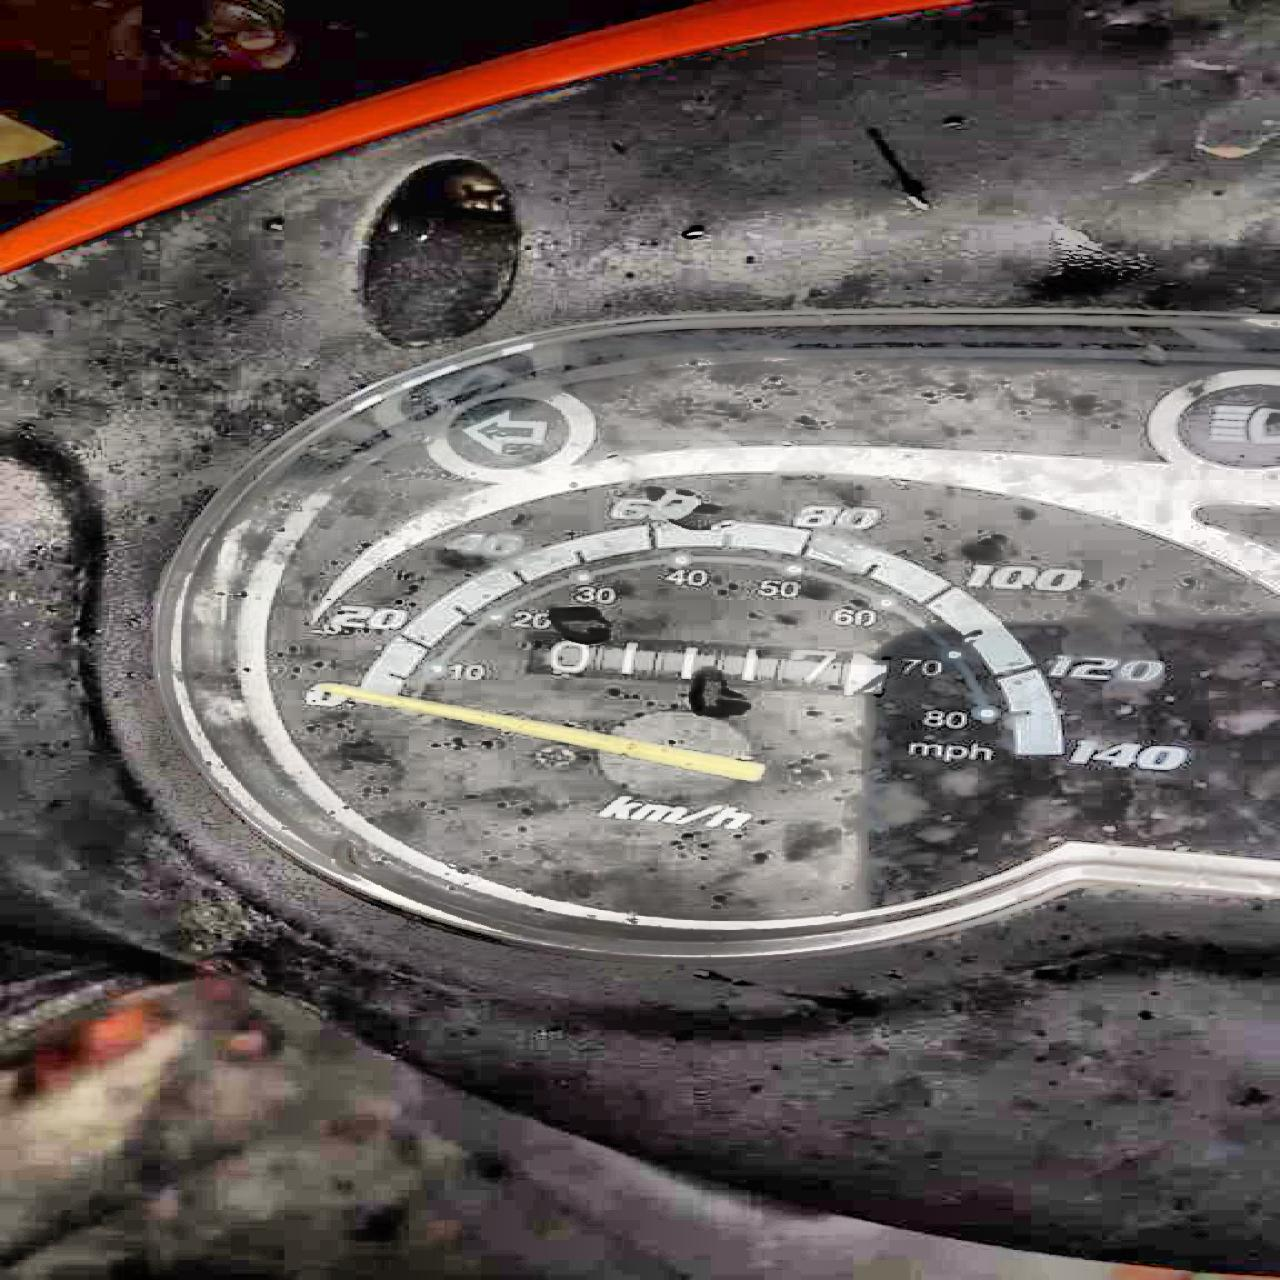0: (547, 639, 588, 673)
1: (729, 640, 762, 685), (675, 642, 702, 682), (615, 640, 642, 676)
4: (849, 670, 893, 701)
7: (787, 645, 837, 682)
odometer: (513, 635, 905, 712)
